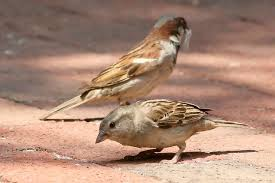home_sparrow: (31, 7, 202, 121), (94, 89, 253, 183)
